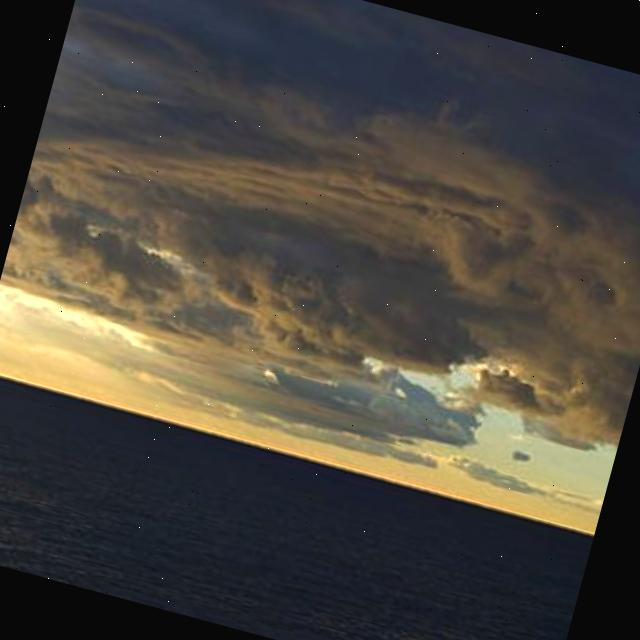Ns: (1, 1, 640, 516)
